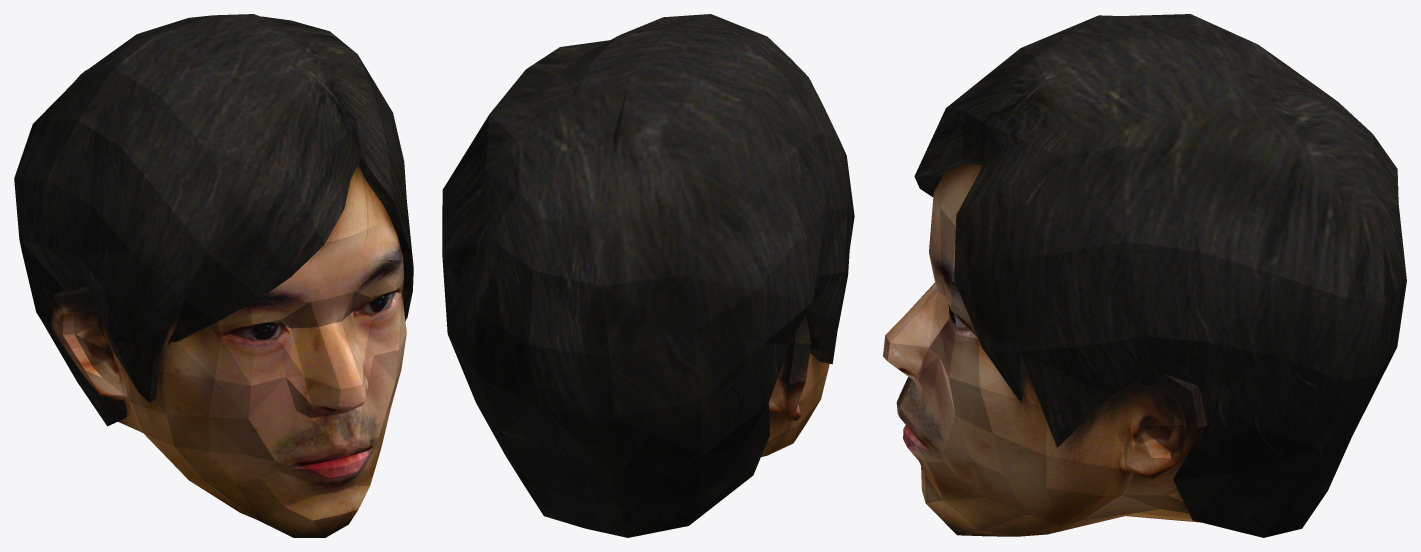
The model's file is mae_face.dae.
3 views of the same model, side by side, from view 1: azimuth 30°, elevation 25°; view 2: azimuth 150°, elevation 25°; view 3: azimuth 270°, elevation 25° (orthographic). The views are drawn at different scales.
Visible parts, largest first — view 1: mae_face__2_; view 2: mae_face__2_; view 3: mae_face__2_.
Part boxes in pixels (bbox=[...]): mae_face__2_: bbox=[14, 14, 413, 537]; mae_face__2_: bbox=[442, 14, 854, 537]; mae_face__2_: bbox=[883, 14, 1406, 537].
Bounding box in the file's own units: 2 × 2.5 × 2.43.
1 material, 1 textured.
